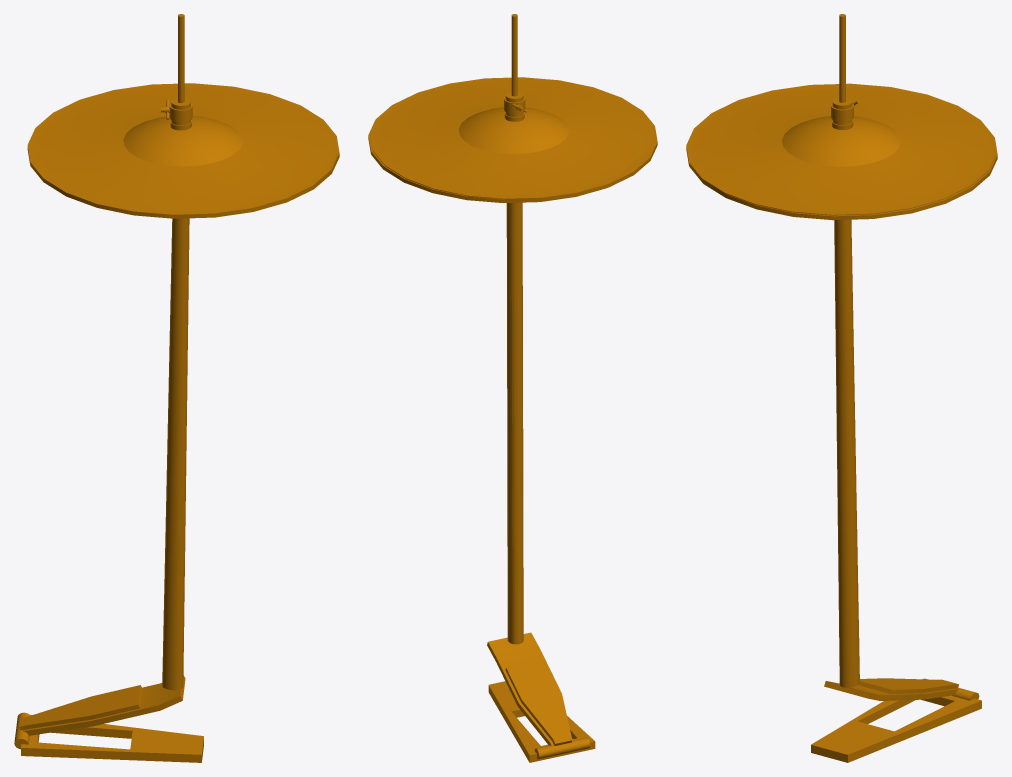
File: HiHat.obj
3 renders of one model, left to right at view 1: azimuth 30°, elevation 25°; view 2: azimuth 150°, elevation 25°; view 3: azimuth 270°, elevation 25°, orthographic. The views are drawn at different scales.
Visible parts, largest first — view 1: ComponentFBXASC03513_001; view 2: ComponentFBXASC03513_001; view 3: ComponentFBXASC03513_001.
Part boxes in pixels (box(x1,y1,x2,y2)): ComponentFBXASC03513_001: box(14, 14, 339, 762); ComponentFBXASC03513_001: box(368, 14, 657, 762); ComponentFBXASC03513_001: box(686, 14, 997, 762).
Size of the model in its own units: 261 by 680 by 261.
